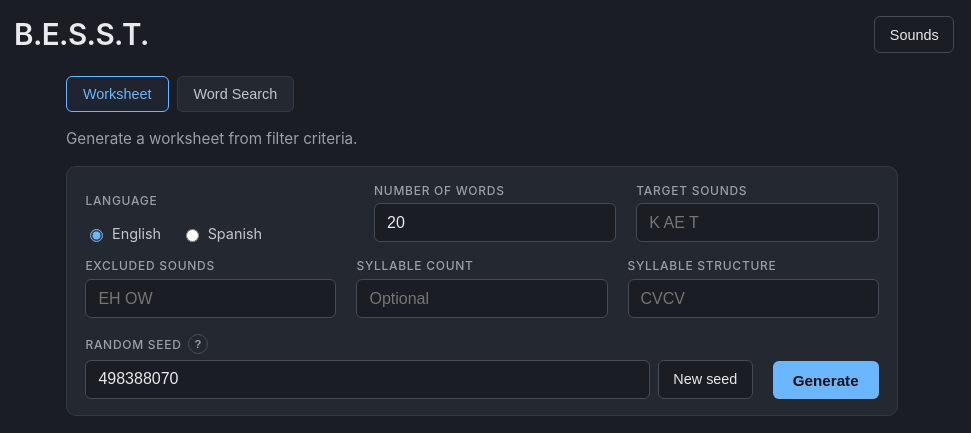
Test: word search tab shows search form
Step 1. Click the button "Word Search" → (235, 94), box x1=176 y1=76 x2=294 y2=112
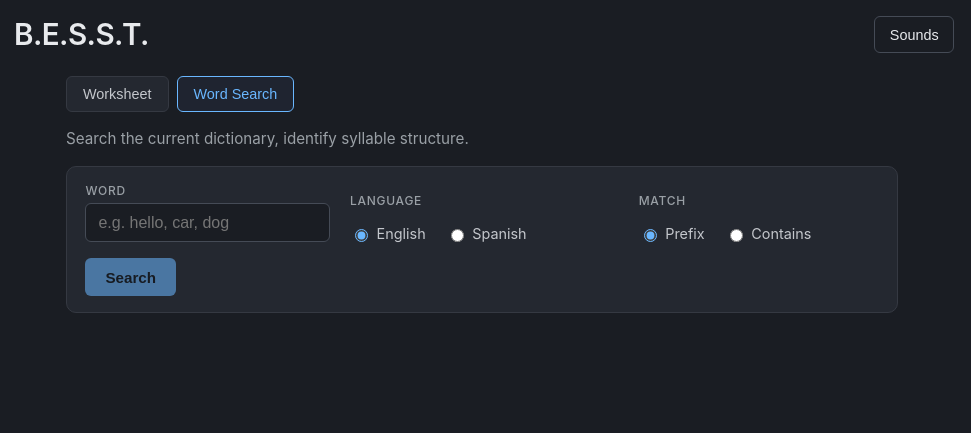
Expected: the element "Language English Spanish" is shown, x1=350 y1=193 x2=527 y2=242
Expected: the button "Search" is shown, x1=85 y1=258 x2=176 y2=296
